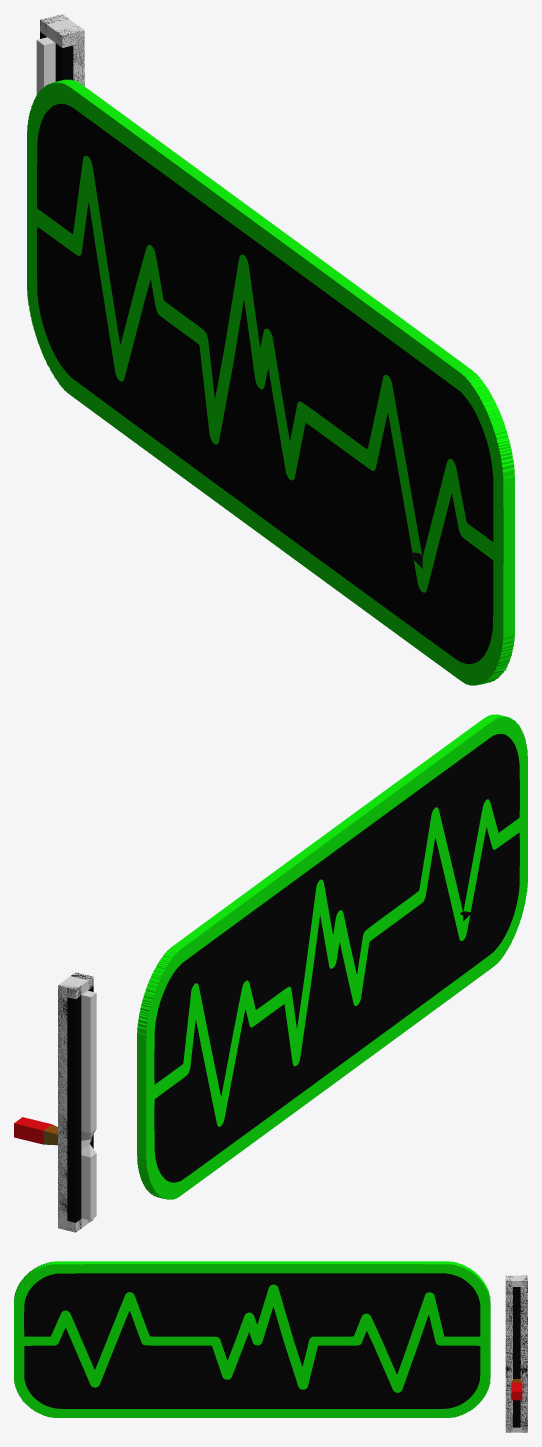
File: StaminaLevelChanger.fbx
The picture shows the model from 3 angles, top to bottom: view 1: azimuth 30°, elevation 25°; view 2: azimuth 150°, elevation 25°; view 3: azimuth 270°, elevation 25°; orthographic projection. The views are drawn at different scales.
Parts seen in each view (by area): view 1: path0.006; view 2: path0.006; view 3: path0.006.
Boxes of the visible parts, <box> form: path0.006: <box>27,14,514,685</box>; path0.006: <box>14,714,527,1232</box>; path0.006: <box>14,1261,527,1432</box>.
Bounding box in the file's own units: 12.5 × 25.36 × 76.7.
